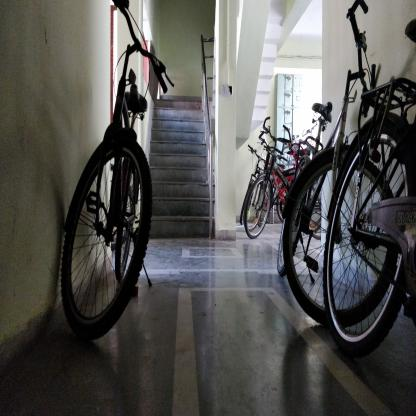stairs: (159, 99, 200, 244)
